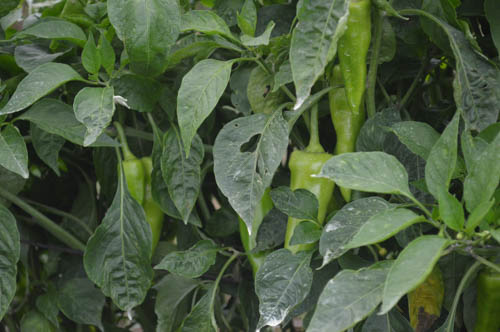ChiliPepper: (285, 148, 333, 262), (328, 68, 363, 205), (340, 4, 376, 115), (240, 191, 276, 282), (138, 157, 170, 250), (117, 159, 143, 203)
